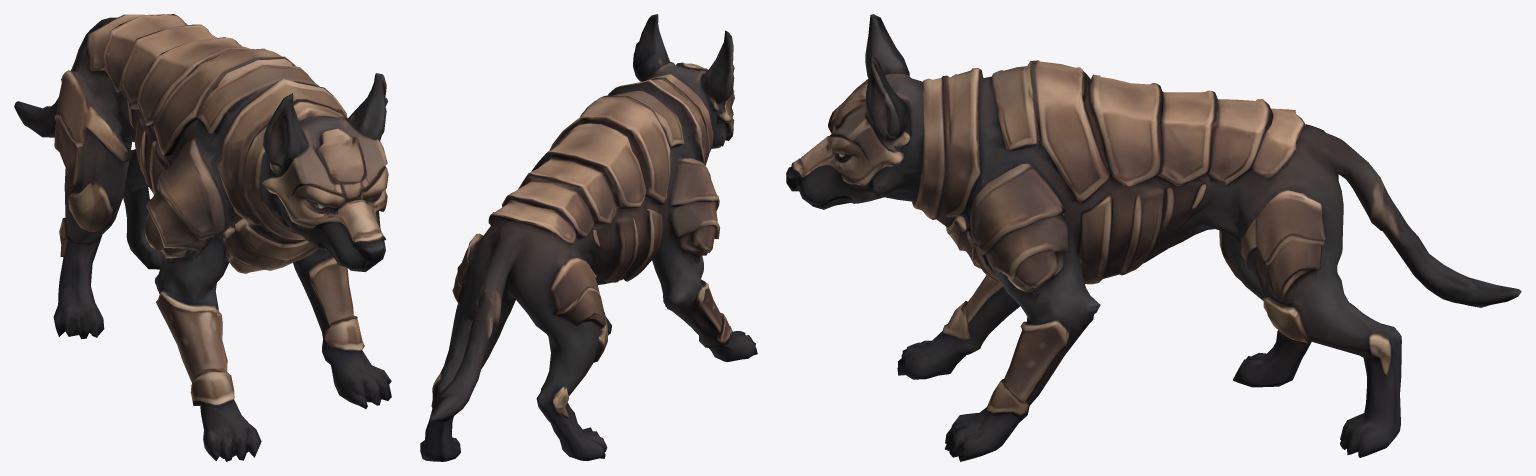
The model's file is ghound.glb.
The picture shows the model from 3 angles, left to right: view 1: azimuth 30°, elevation 25°; view 2: azimuth 150°, elevation 25°; view 3: azimuth 270°, elevation 25°; orthographic projection. The views are drawn at different scales.
Parts seen in each view (by area): view 1: tripo_node_f17ef1e1-63a8-4e0e-9e10-a7afac4e3d46; view 2: tripo_node_f17ef1e1-63a8-4e0e-9e10-a7afac4e3d46; view 3: tripo_node_f17ef1e1-63a8-4e0e-9e10-a7afac4e3d46.
Part boxes in pixels (<box>): tripo_node_f17ef1e1-63a8-4e0e-9e10-a7afac4e3d46: <box>14,14,391,461</box>; tripo_node_f17ef1e1-63a8-4e0e-9e10-a7afac4e3d46: <box>420,14,757,461</box>; tripo_node_f17ef1e1-63a8-4e0e-9e10-a7afac4e3d46: <box>786,14,1521,461</box>.
Bounding box in the file's own units: 0.3395 × 0.572 × 1.
1 material, 1 textured.
